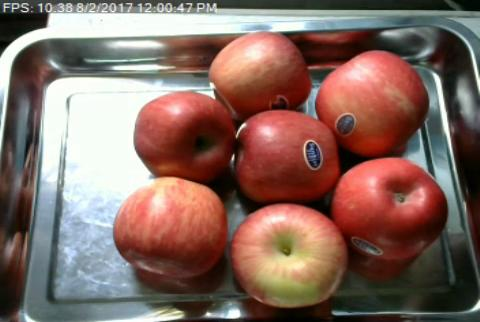apple: (315, 48, 431, 156), (334, 156, 449, 263), (230, 205, 346, 309), (112, 176, 228, 279), (232, 109, 337, 205), (133, 89, 235, 178), (208, 31, 312, 110)
